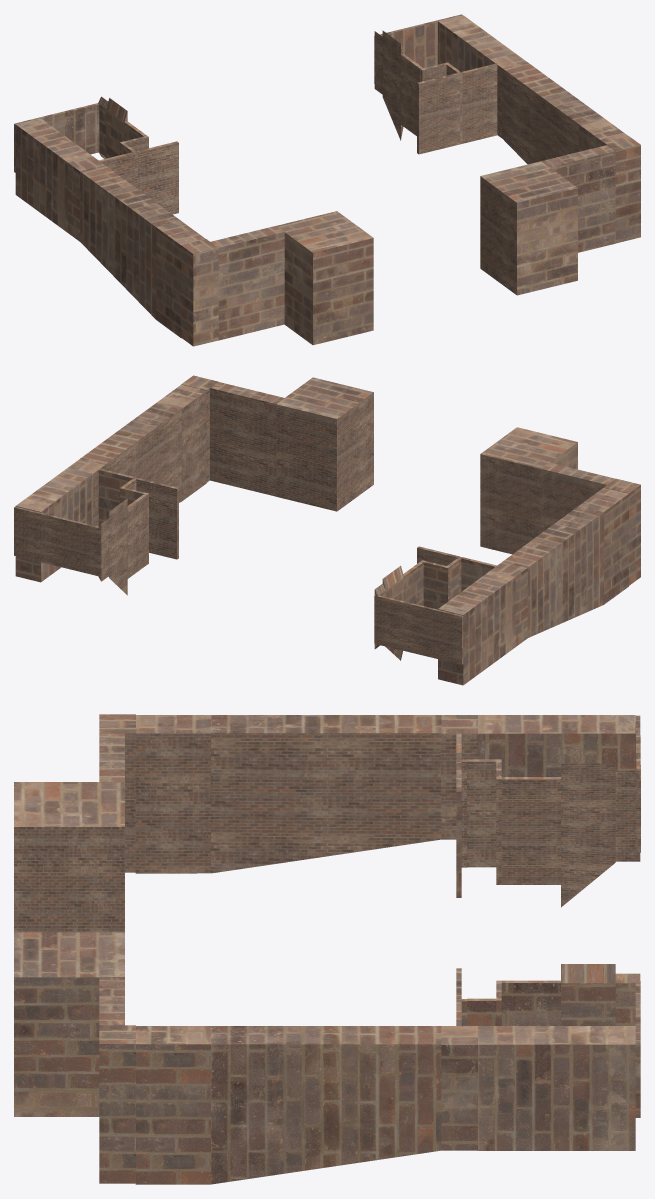
File: Pared de abajo.fbx
3 renders of one model, top to bottom at view 1: azimuth 30°, elevation 25°; view 2: azimuth 150°, elevation 25°; view 3: azimuth 270°, elevation 25°, orthographic. The views are drawn at different scales.
Parts seen in each view (by area): view 1: Cube.184; view 2: Cube.184; view 3: Cube.184.
Part boxes in pixels (<box>): Cube.184: <box>14,14,640,346</box>; Cube.184: <box>14,375,640,685</box>; Cube.184: <box>14,714,640,1184</box>.
Bounding box in the file's own units: 2129 × 471 × 1711.
